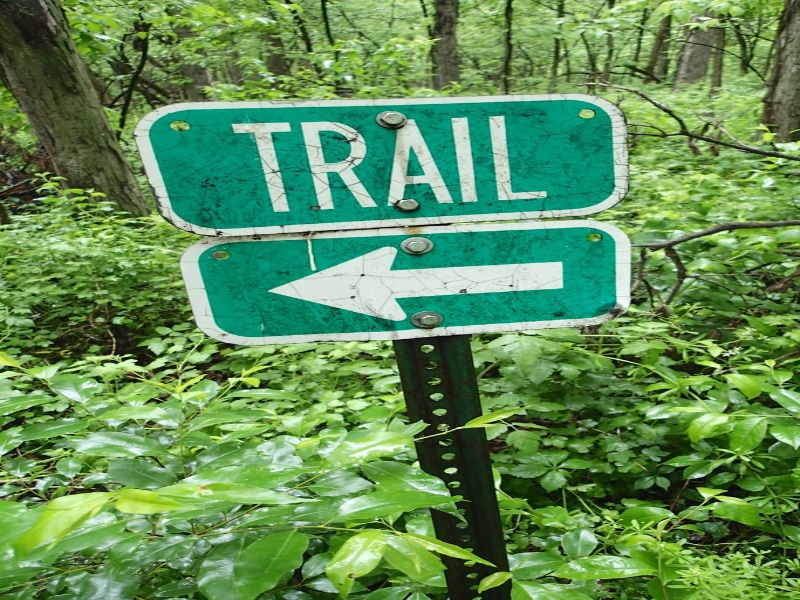left_direction: (178, 214, 632, 347)
